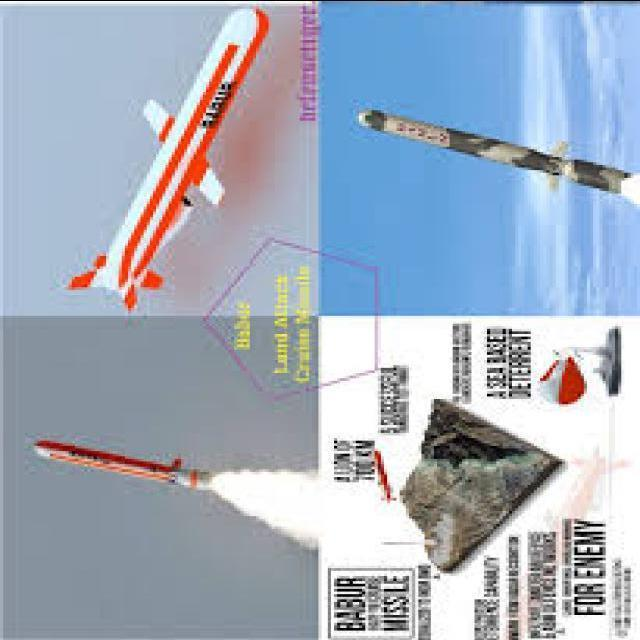Missile: (63, 0, 296, 312), (354, 105, 630, 187), (26, 437, 201, 491)
